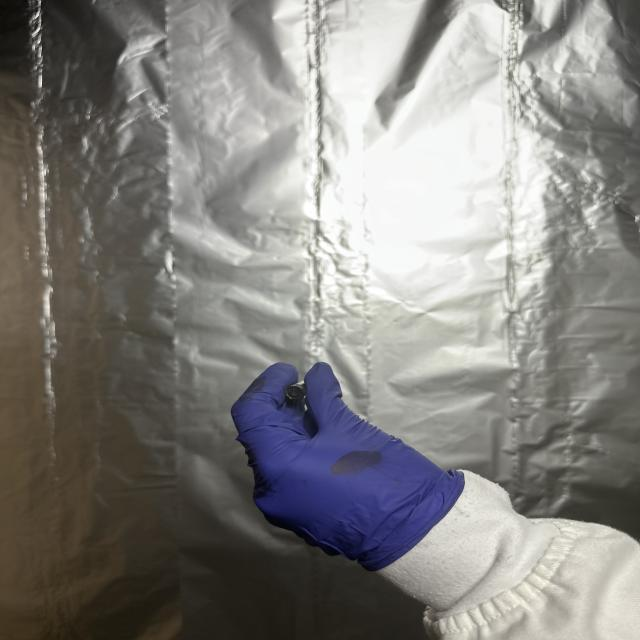gloves_contaminated: (232, 362, 464, 570)
